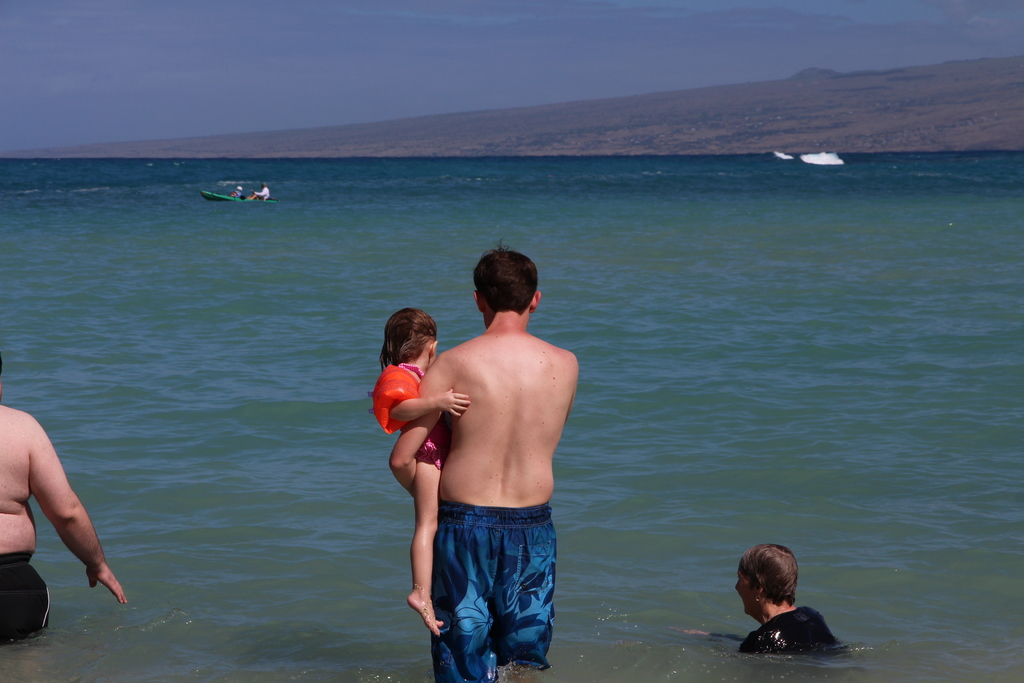Human_hand: (85, 563, 128, 607), (438, 384, 474, 417)
